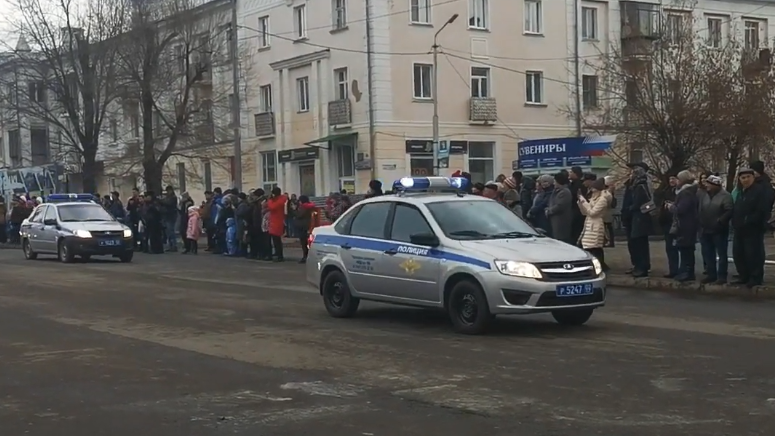police car: (22, 191, 136, 264)
